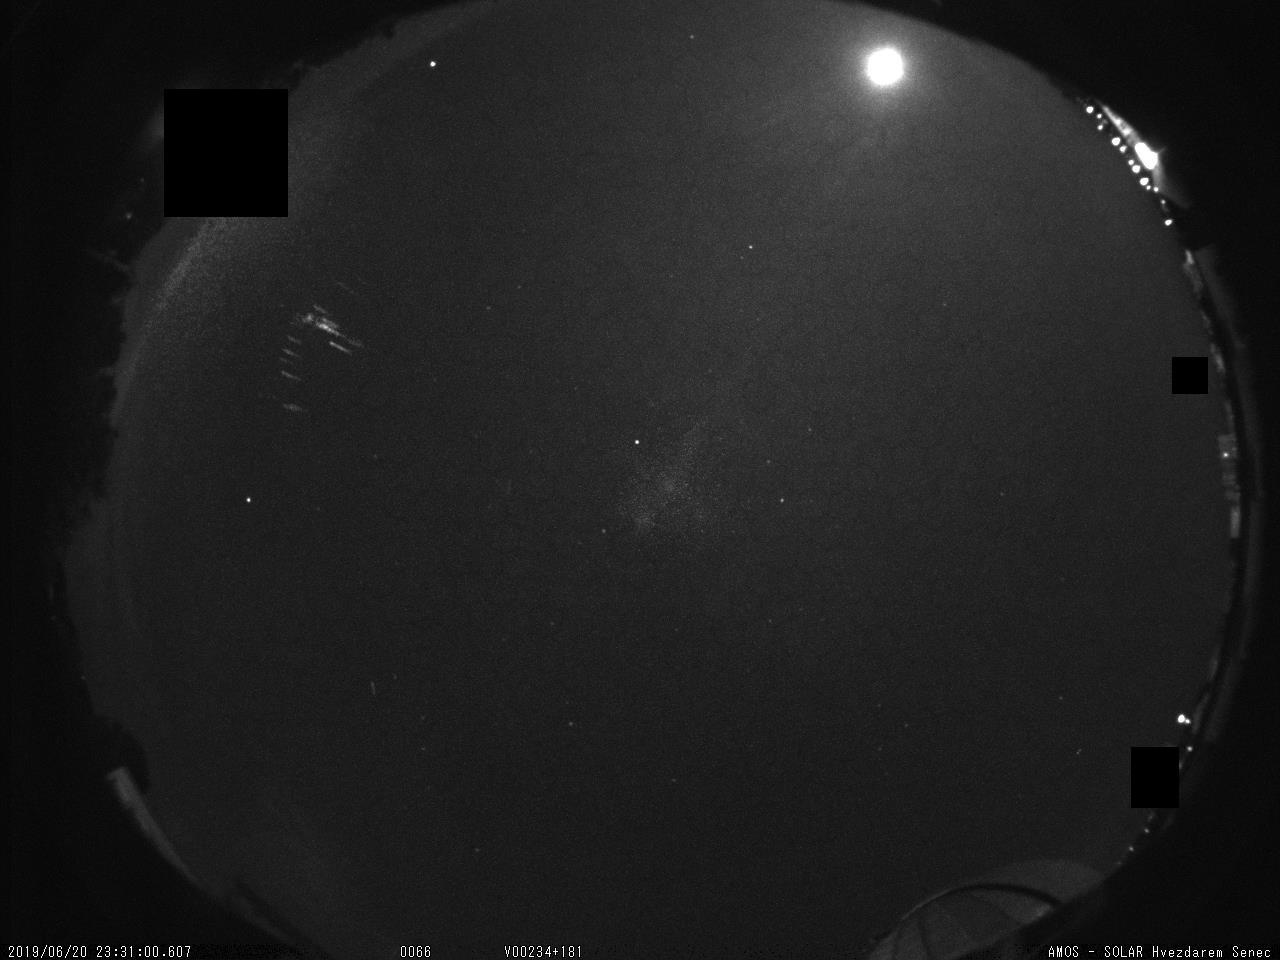TLE: (262, 303, 378, 417)
